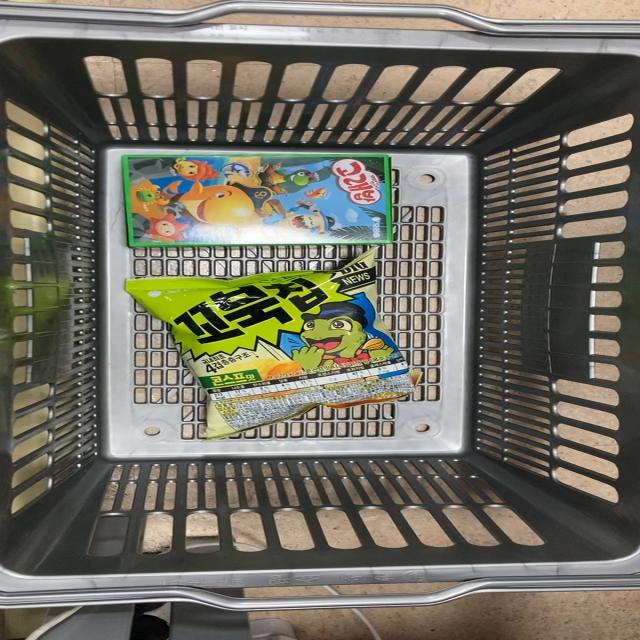ggobukchip: (125, 259, 429, 426)
goraebob: (105, 142, 424, 252)
